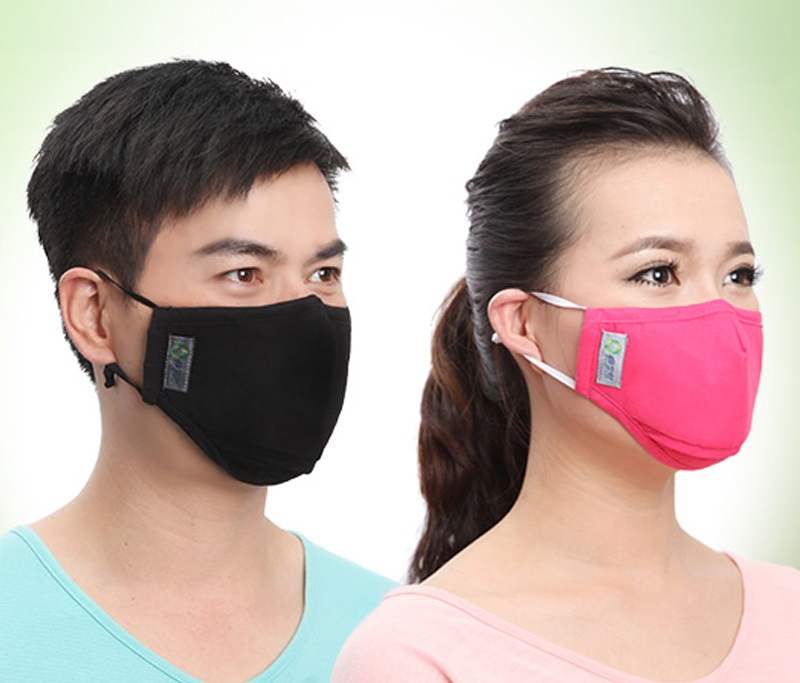face_mask: (556, 162, 767, 468), (154, 162, 351, 489)
